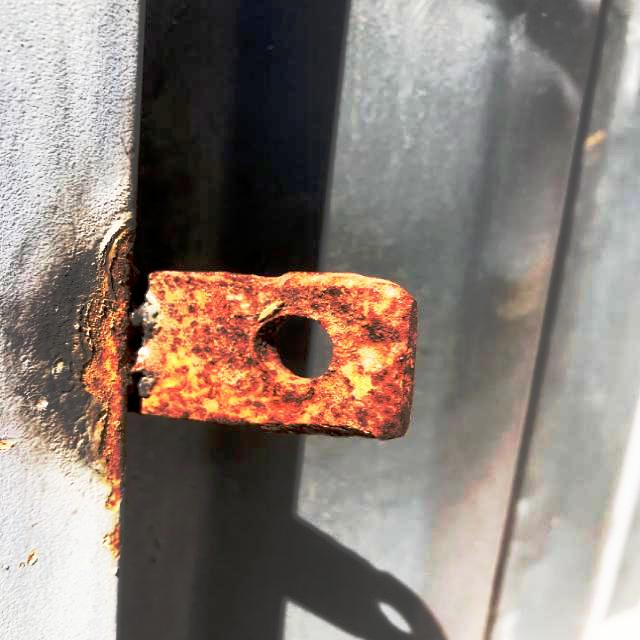Corrosion: (129, 268, 415, 442), (65, 217, 138, 510), (102, 524, 122, 560)
